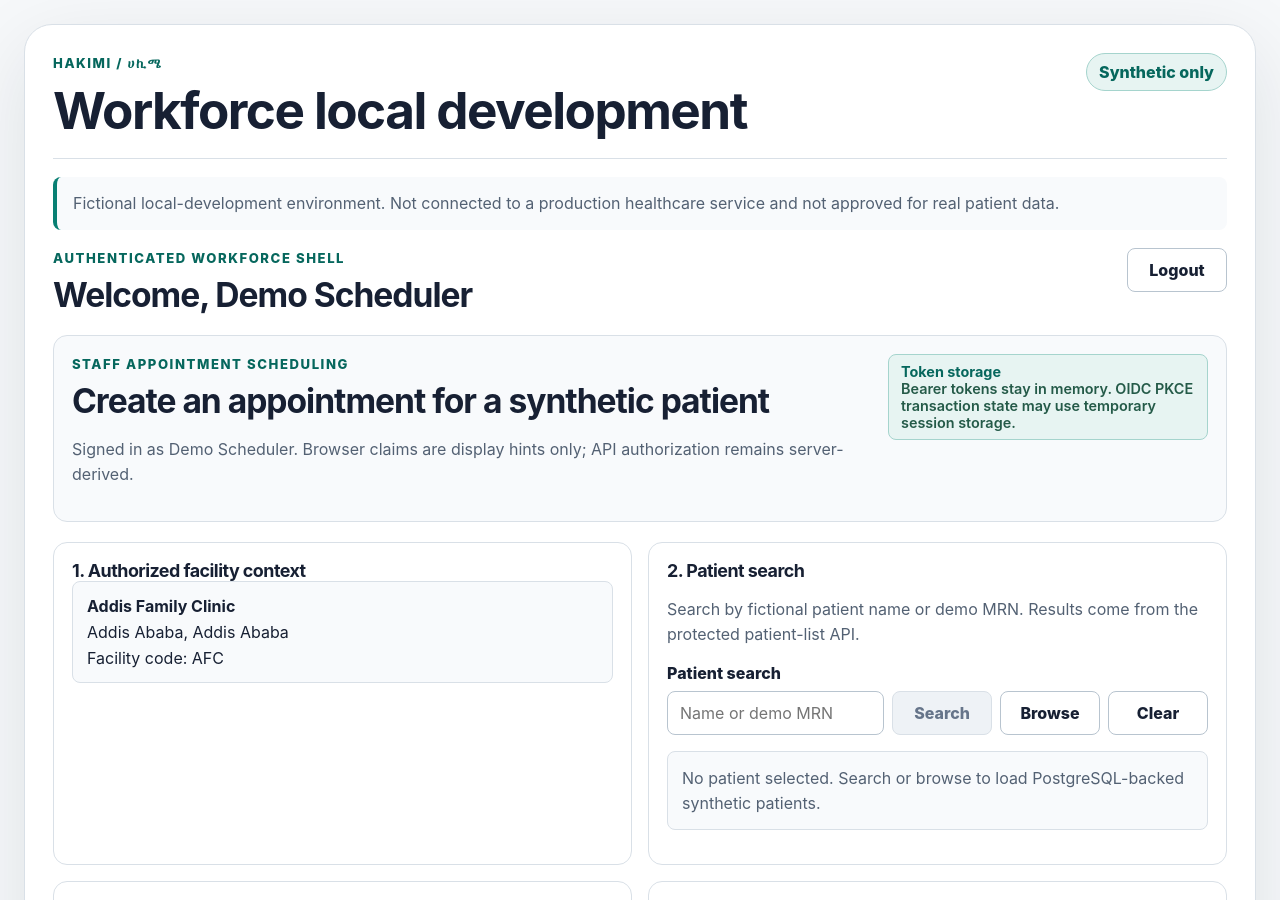
Scenario: App workforce authentication shell › browses patients without fixture fallback and shows empty state
Click the button "Browse" at (1050, 713), box [1000, 691, 1100, 735]
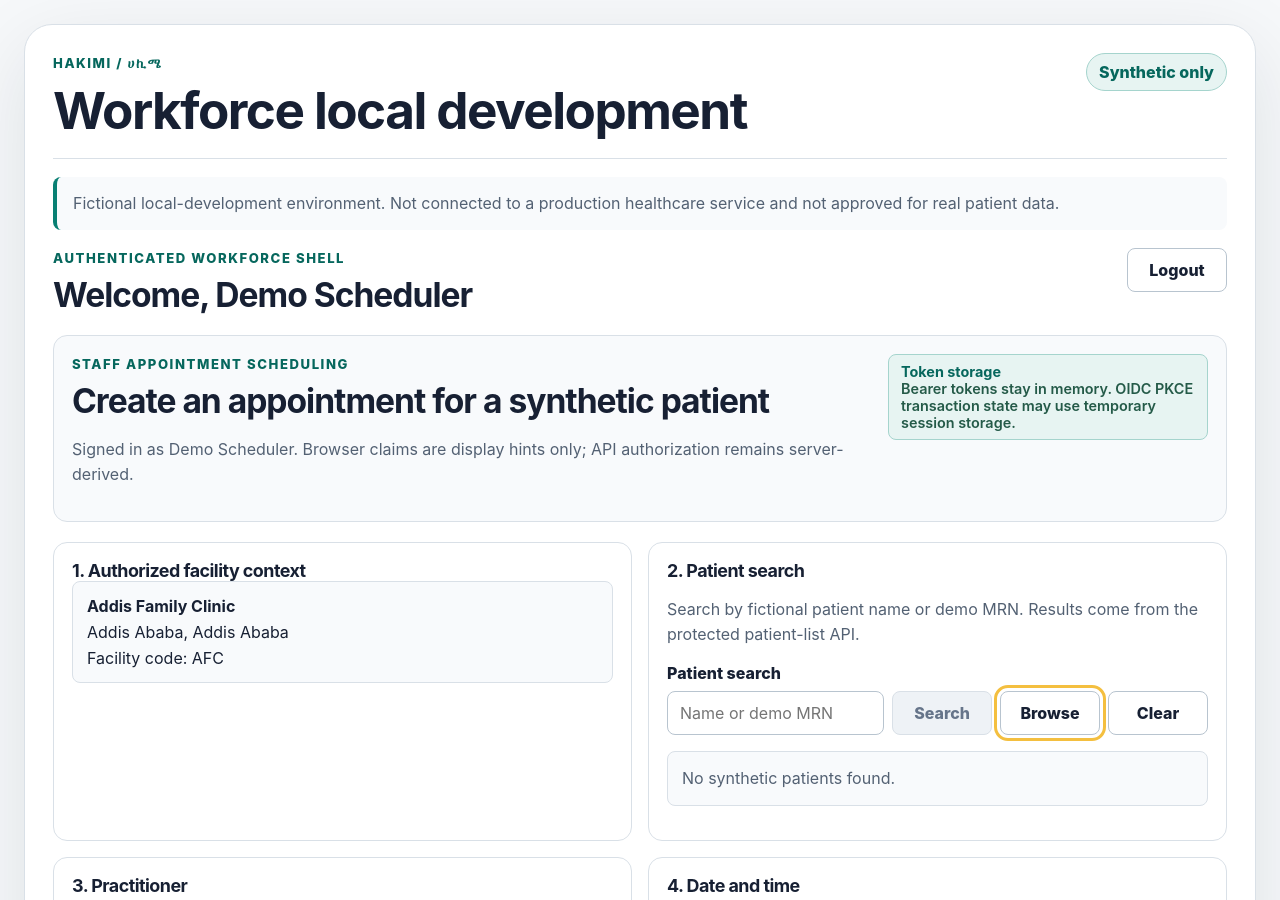
Result: the text "No synthetic patients found." is shown at [667, 751, 1208, 806]
